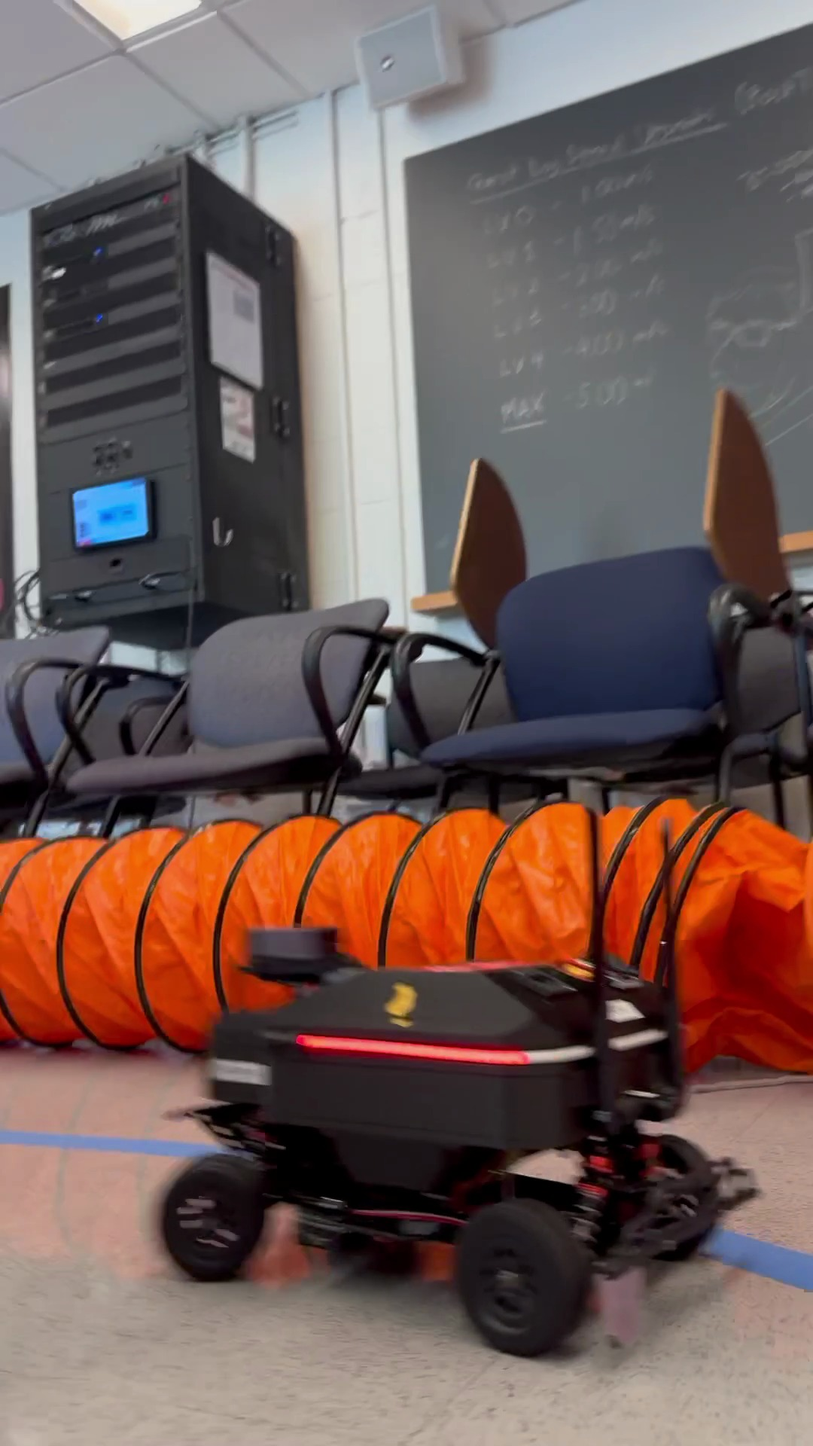racecar: (159, 859, 753, 1358)
